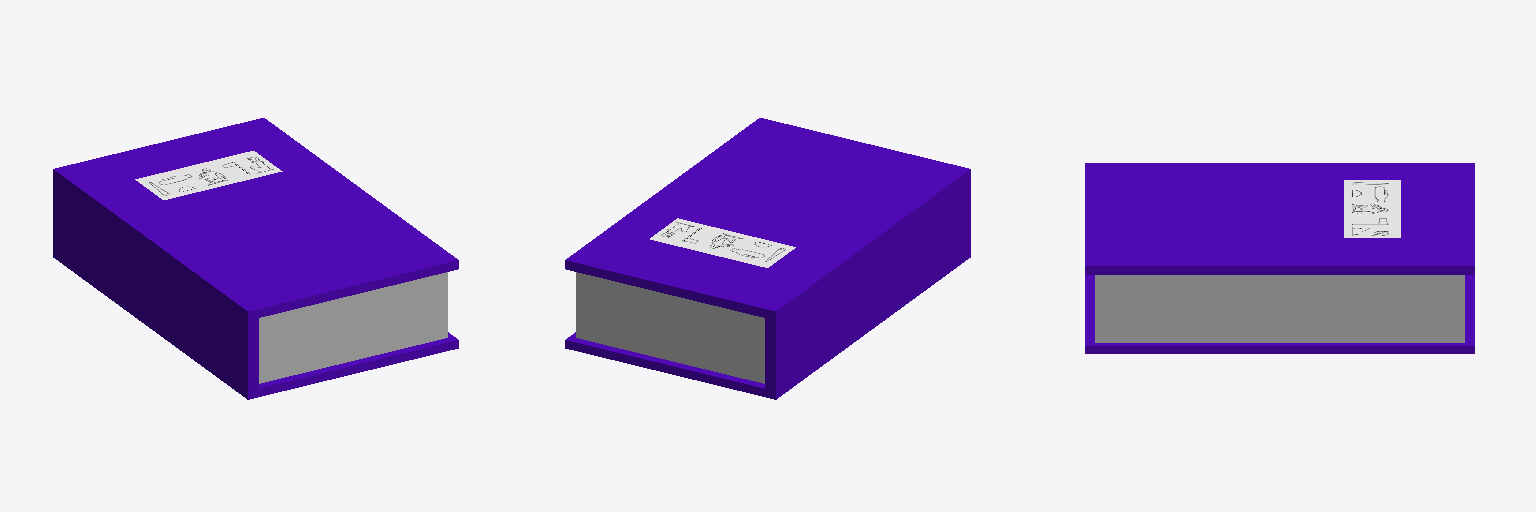
The picture shows the model from 3 angles: view 1: azimuth 30°, elevation 25°; view 2: azimuth 150°, elevation 25°; view 3: azimuth 270°, elevation 25°; orthographic projection.
Visible parts, largest first — view 1: Kaft.005_Cube.009, Inhoud.005_Cube.010, Oud-Egyptisch; view 2: Kaft.005_Cube.009, Inhoud.005_Cube.010, Oud-Egyptisch; view 3: Kaft.005_Cube.009, Inhoud.005_Cube.010, Oud-Egyptisch.
Boxes of the visible parts, x1,y1,x2,y2 form: Kaft.005_Cube.009: [53, 118, 458, 399]; Inhoud.005_Cube.010: [259, 272, 447, 383]; Oud-Egyptisch: [135, 151, 282, 199]; Kaft.005_Cube.009: [565, 118, 970, 399]; Inhoud.005_Cube.010: [576, 272, 764, 383]; Oud-Egyptisch: [650, 218, 795, 267]; Kaft.005_Cube.009: [1085, 163, 1474, 353]; Inhoud.005_Cube.010: [1095, 275, 1464, 342]; Oud-Egyptisch: [1344, 180, 1400, 237].
Size of the model in its own units: 0.5 by 0.2123 by 0.8.
3 materials, 1 textured.